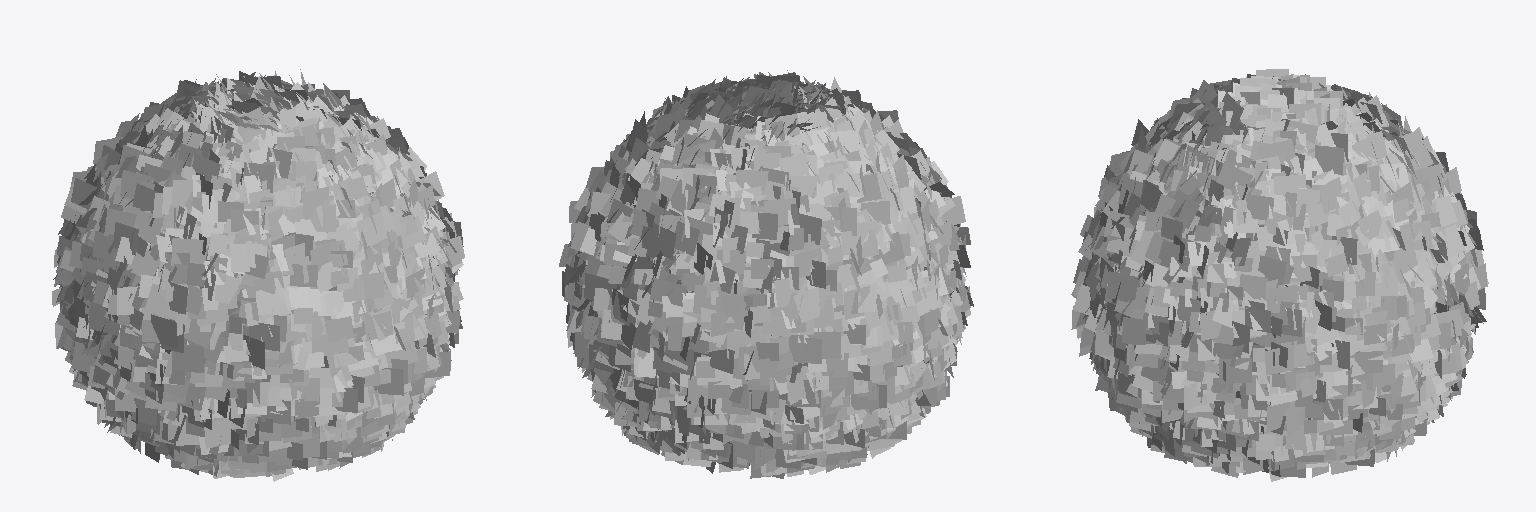
File: 12IWC0DSU2X6SOEVSRG7QJCPN.obj
3 renders of one model, left to right at view 1: azimuth 30°, elevation 25°; view 2: azimuth 150°, elevation 25°; view 3: azimuth 270°, elevation 25°, orthographic.
Parts seen in each view (by area): view 1: Object_LEAF17SI.jpg; view 2: Object_LEAF17SI.jpg; view 3: Object_LEAF17SI.jpg.
Boxes of the visible parts, <box> form: Object_LEAF17SI.jpg: <box>52,69,464,481</box>; Object_LEAF17SI.jpg: <box>559,70,973,478</box>; Object_LEAF17SI.jpg: <box>1071,69,1488,481</box>.
Size of the model in its own units: 2.49 by 2.28 by 2.5.